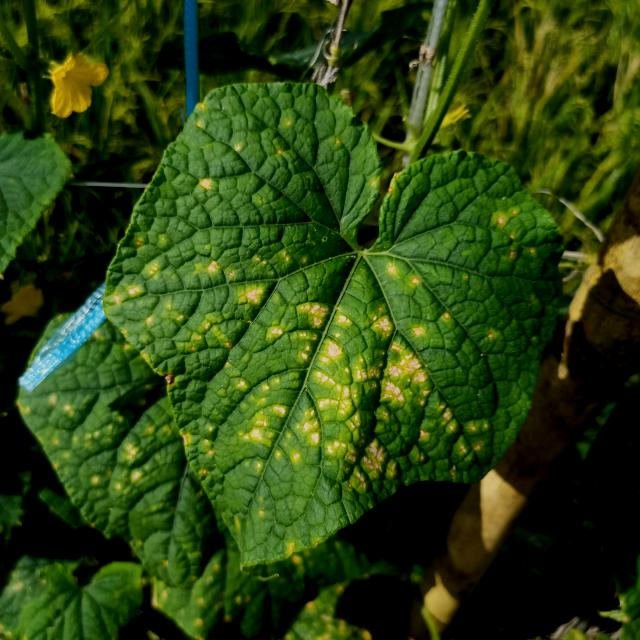disease_cucumber: (117, 122, 560, 530)
